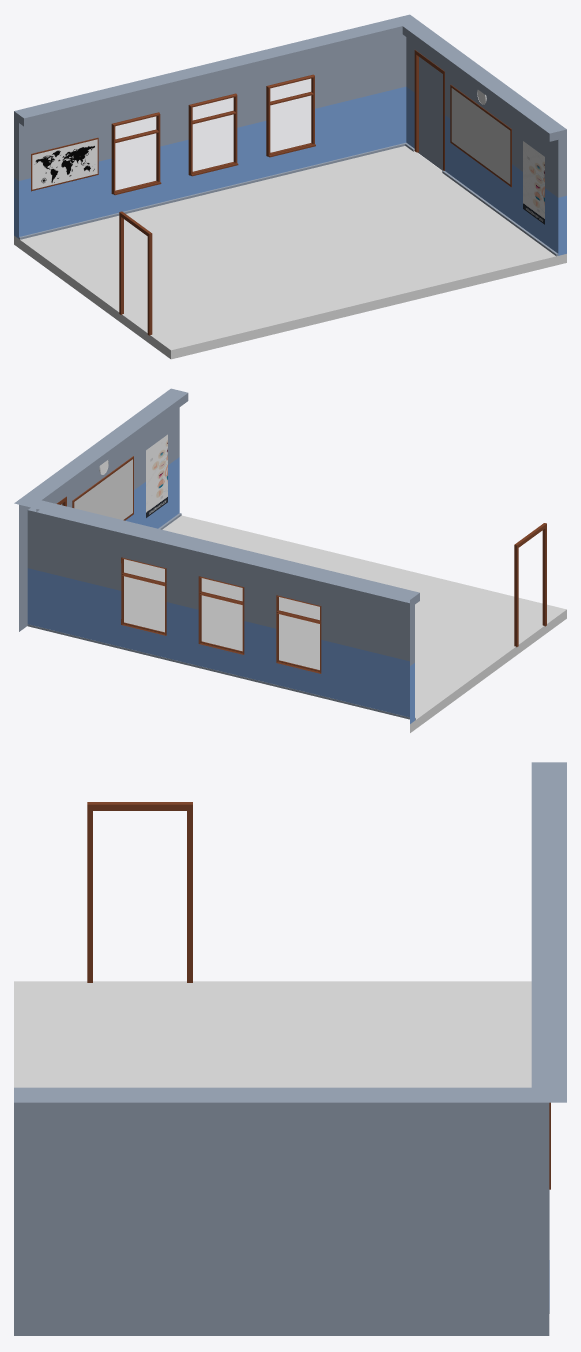
Rendered from Room_Aula1.fbx.
3 views of the same model, one above another, from view 1: azimuth 30°, elevation 25°; view 2: azimuth 150°, elevation 25°; view 3: azimuth 270°, elevation 25° (orthographic). The views are drawn at different scales.
Visible parts, largest first — view 1: Aula1_Base; view 2: Aula1_Base; view 3: Aula1_Base.
Boxes of the visible parts, x1=… form: Aula1_Base: x1=14, y1=14, x2=566, y2=359; Aula1_Base: x1=14, y1=388, x2=566, y2=732; Aula1_Base: x1=14, y1=762, x2=566, y2=1335.
Size of the model in its own units: 4555 by 1464 by 3121.
Materials: 9 (3 with a texture image).
